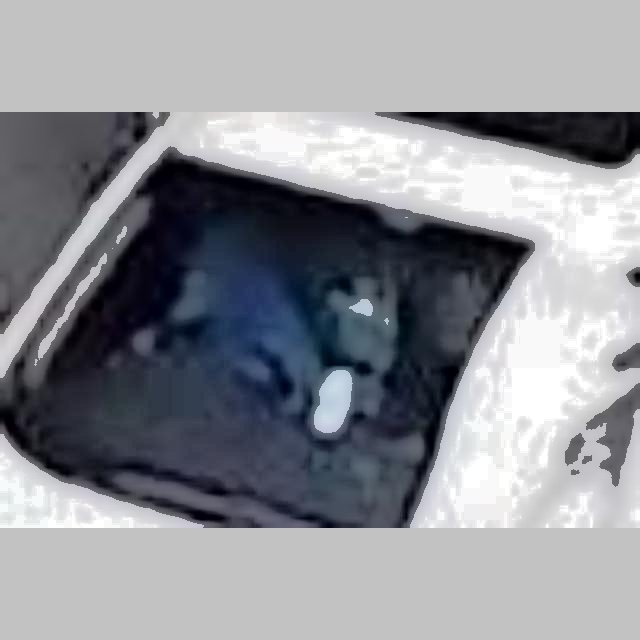pakai: (198, 182, 397, 438)
